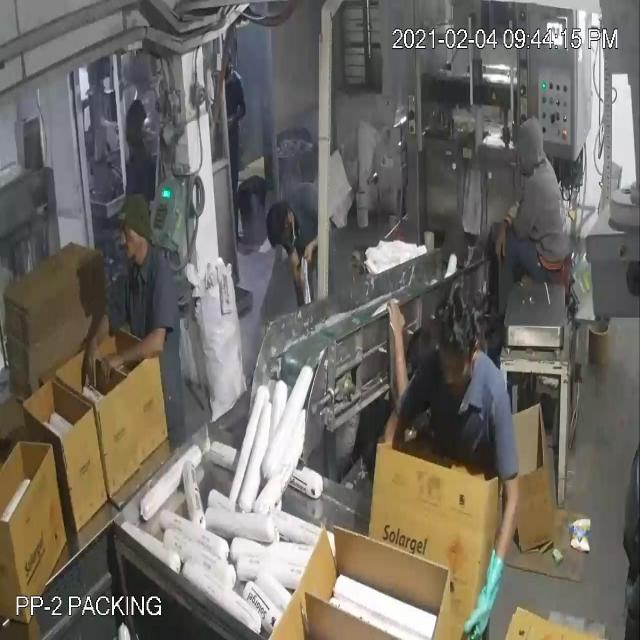No_Gloves: (21, 58, 505, 587)
